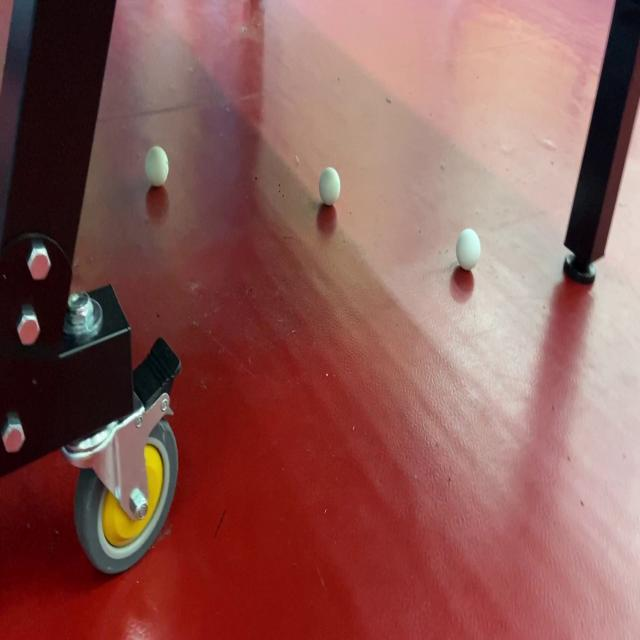ping-pong-ball: (141, 141, 172, 191), (453, 223, 483, 274), (317, 160, 342, 209)
